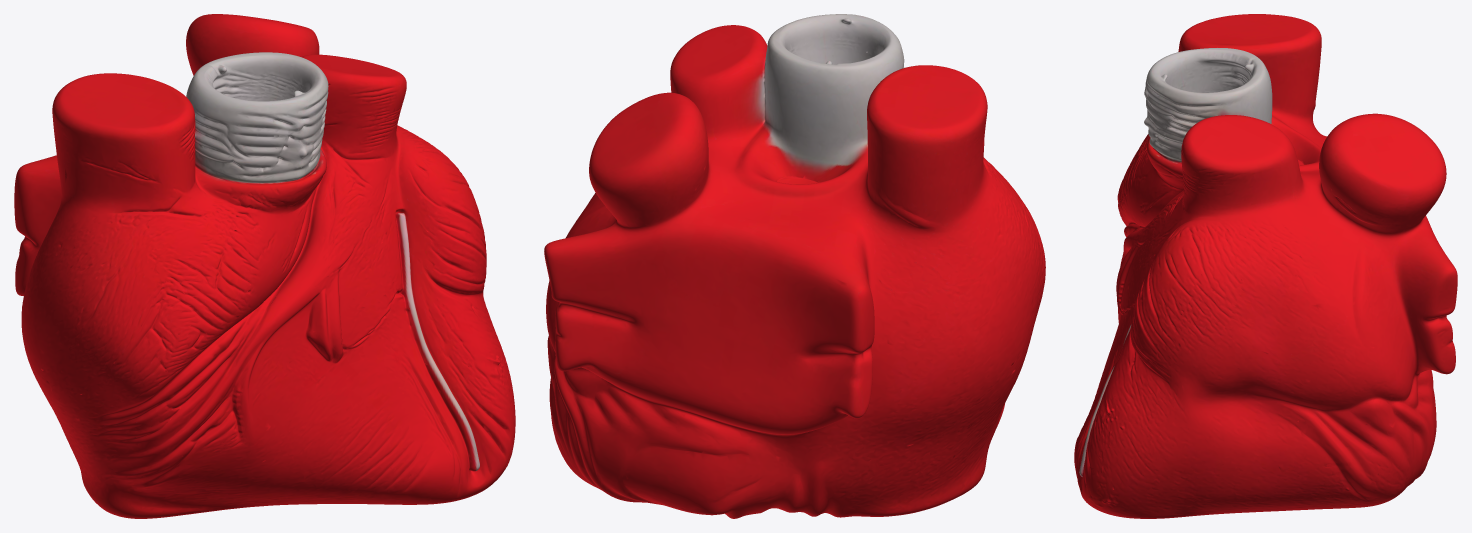
Rendered from cardiosim-heart.glb.
3 views of the same model, side by side, from view 1: azimuth 30°, elevation 25°; view 2: azimuth 150°, elevation 25°; view 3: azimuth 270°, elevation 25° (orthographic). The views are drawn at different scales.
Visible parts, largest first — view 1: material; view 2: material; view 3: material.
Part boxes in pixels (<box>): material: <box>14,14,515,518</box>; material: <box>544,14,1045,518</box>; material: <box>1074,14,1457,518</box>.
Bounding box in the file's own units: 0.8256 × 0.7794 × 0.7334.
Materials: 1 (1 with a texture image).
